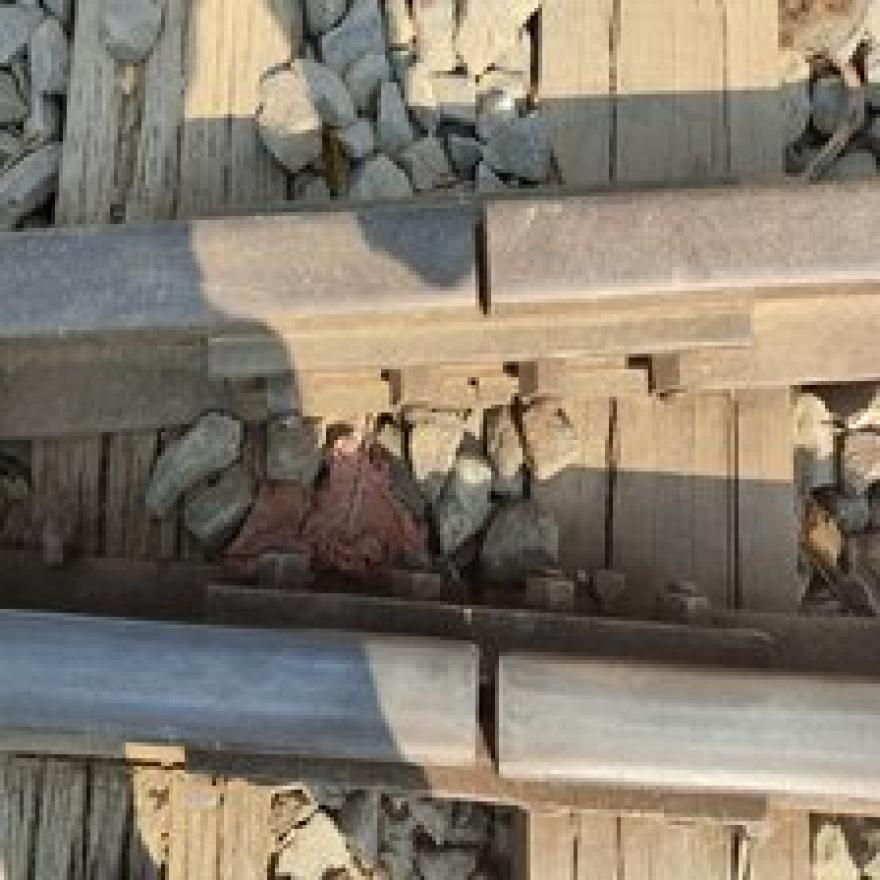railway-gap: (414, 628, 565, 786), (404, 190, 563, 328)
